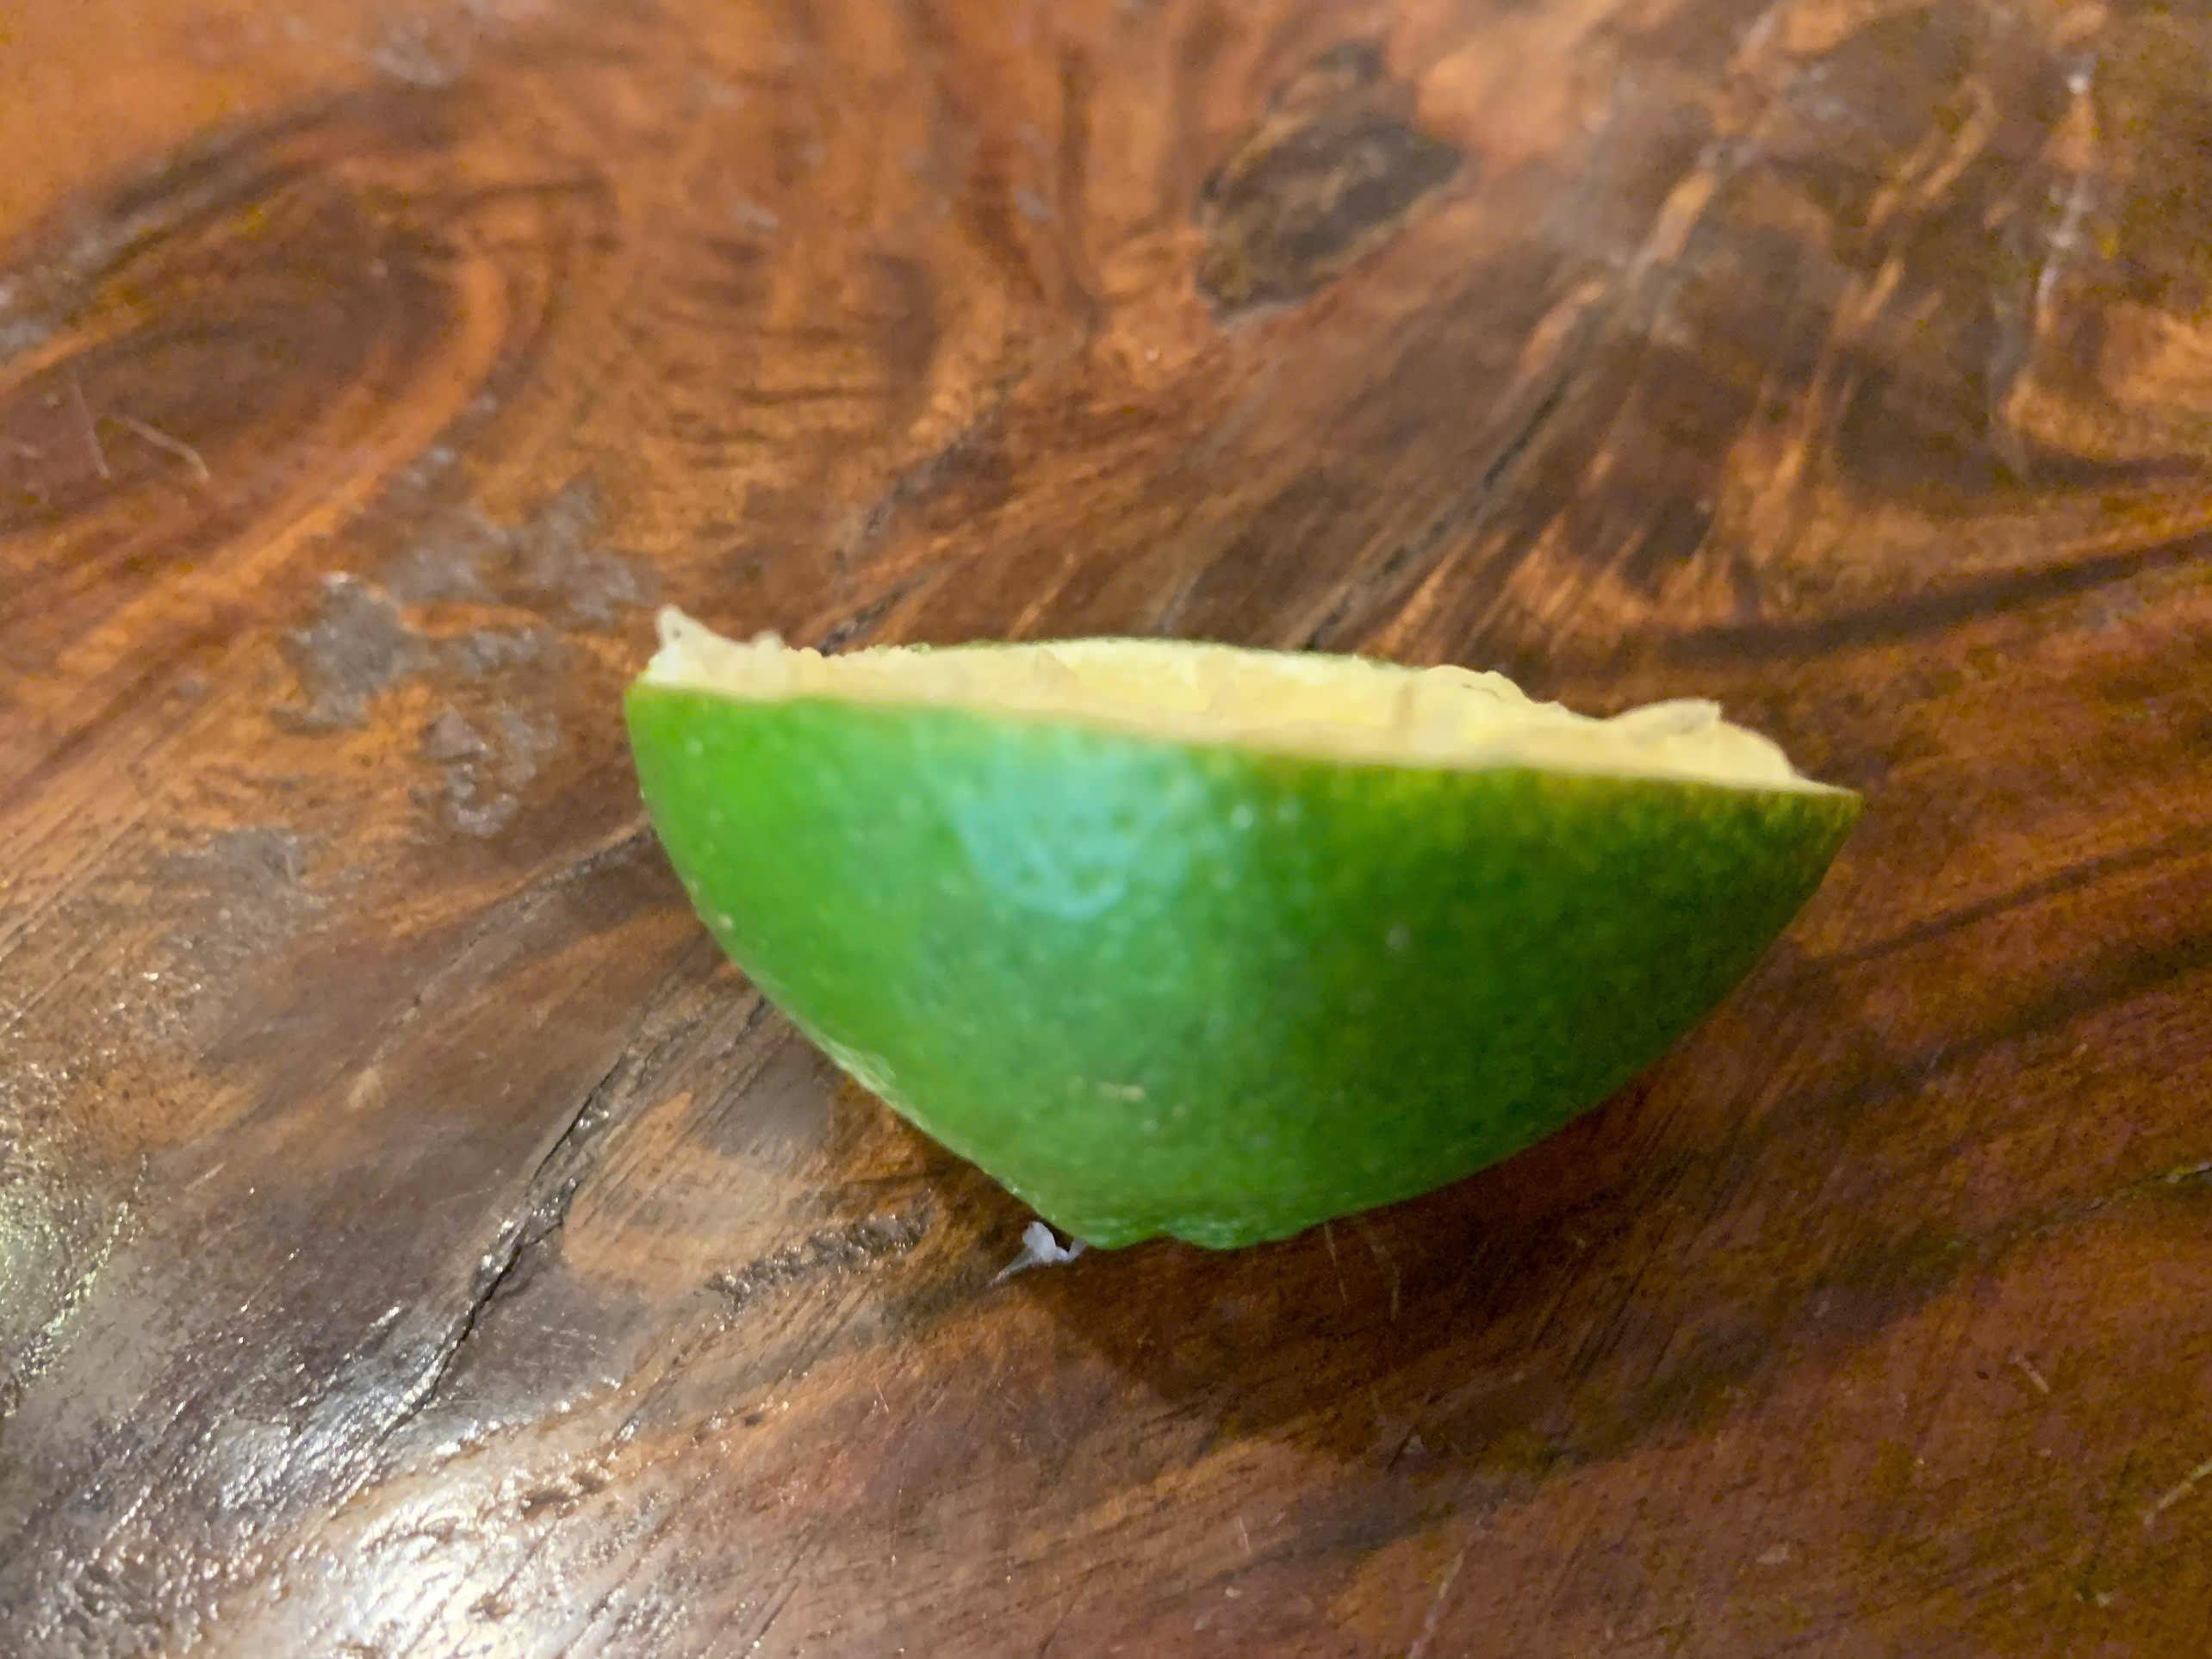Huu co: (624, 610, 1851, 1251)
